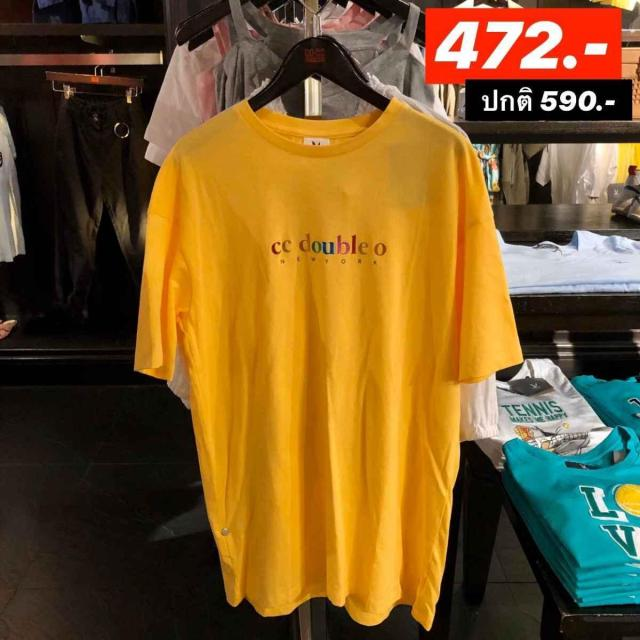Tshirt: (135, 99, 523, 629)
